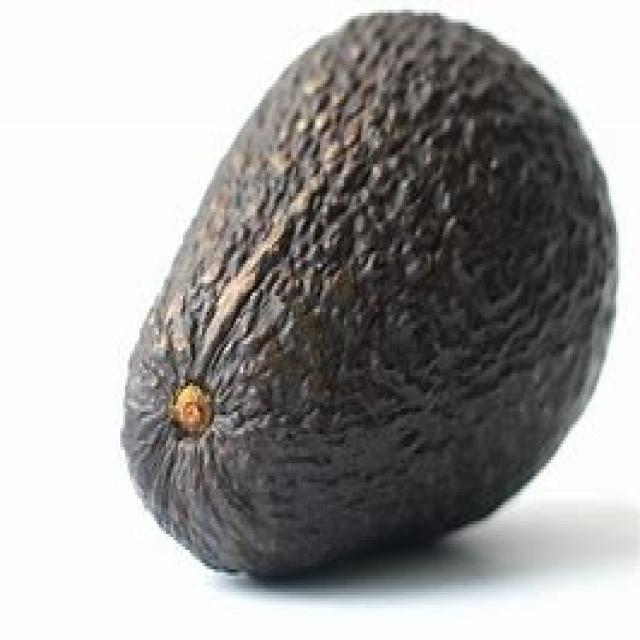avocado: (116, 10, 629, 581)
